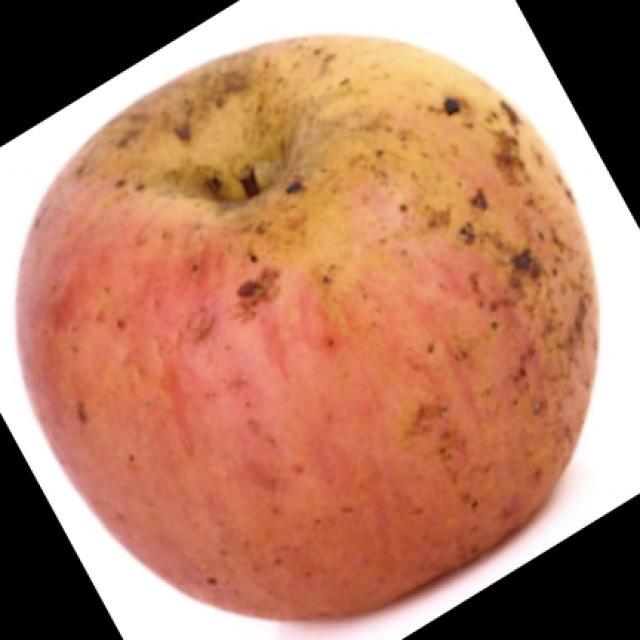Rotten: (92, 57, 600, 588)
